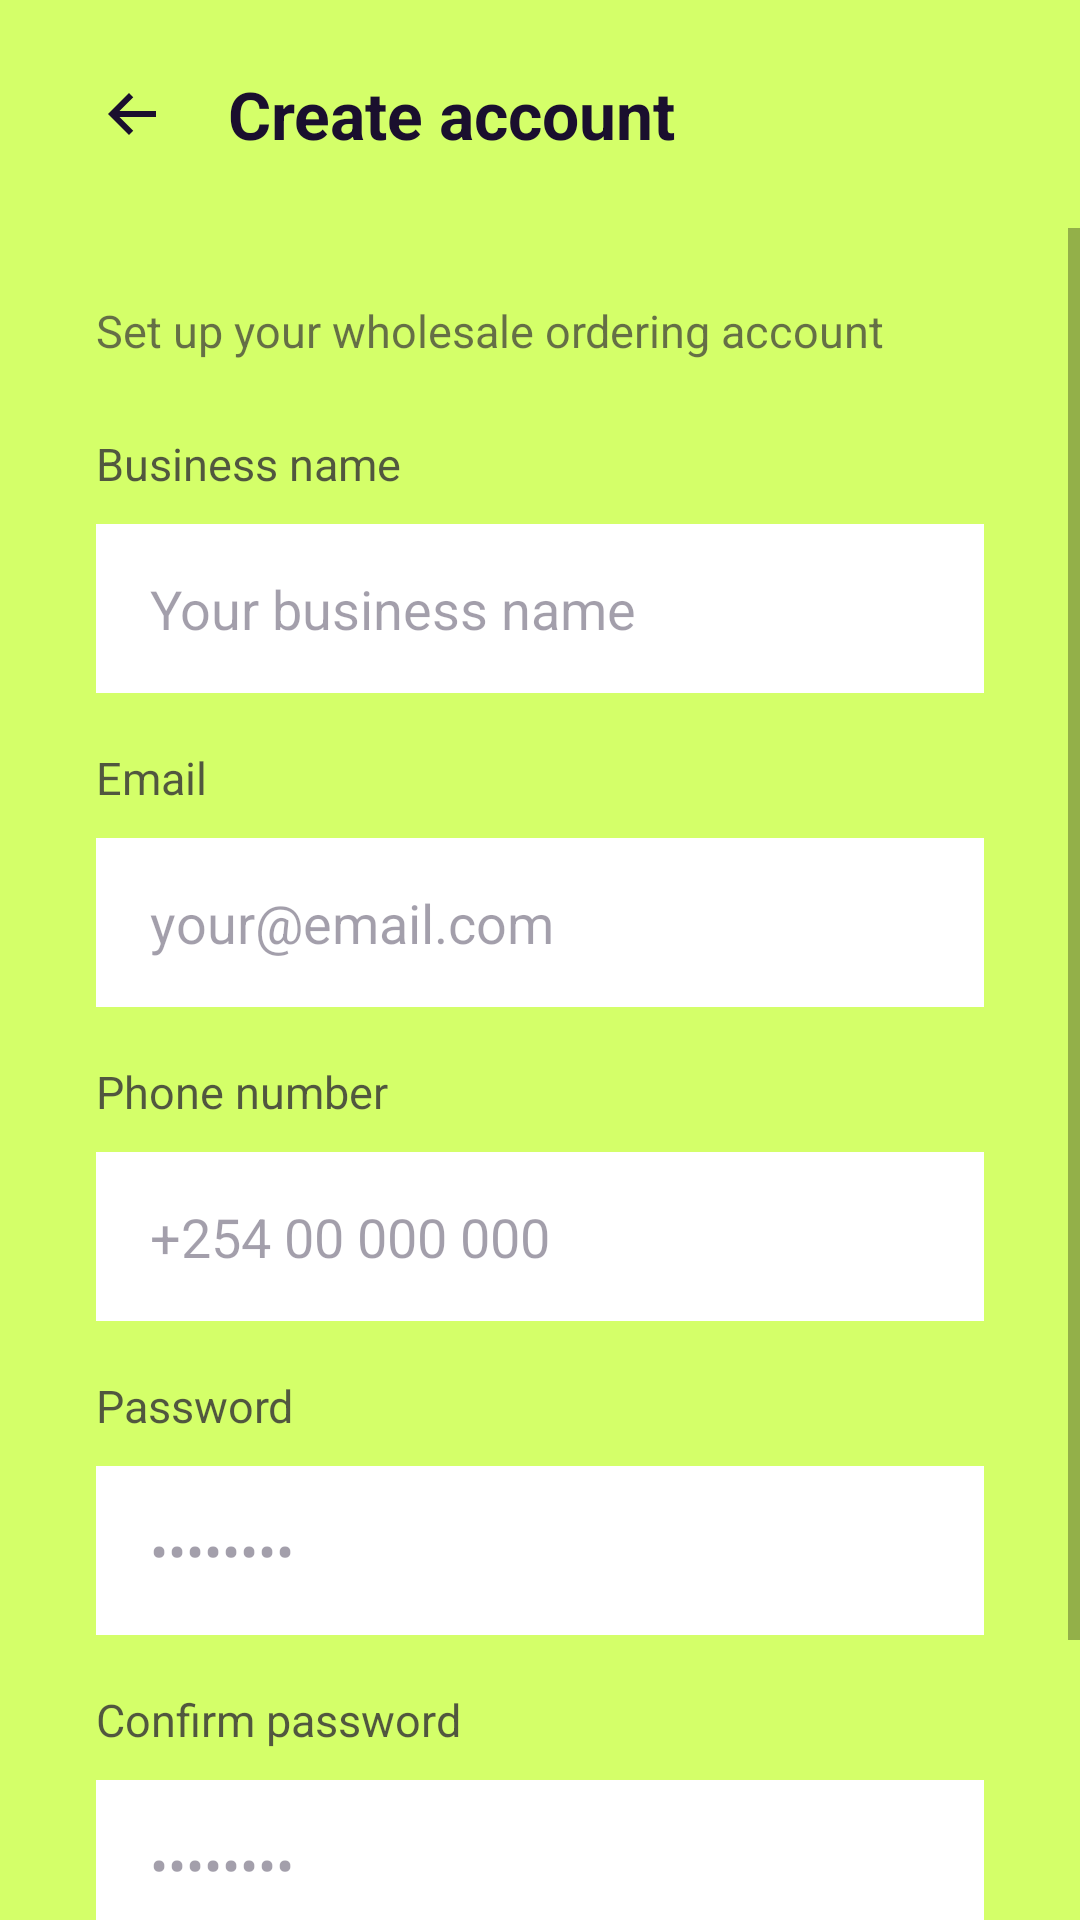

Icons on this 1080 × 1920 Android screen, each with the point to tap as [x,y]:
Back: [132,114]
